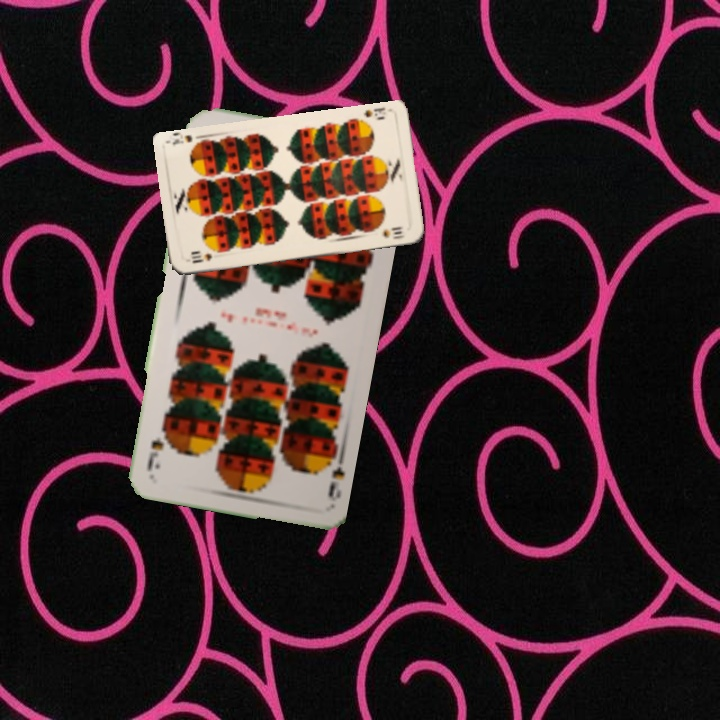S10: (359, 103, 393, 119), (187, 250, 214, 266)
S9: (321, 447, 347, 504)
